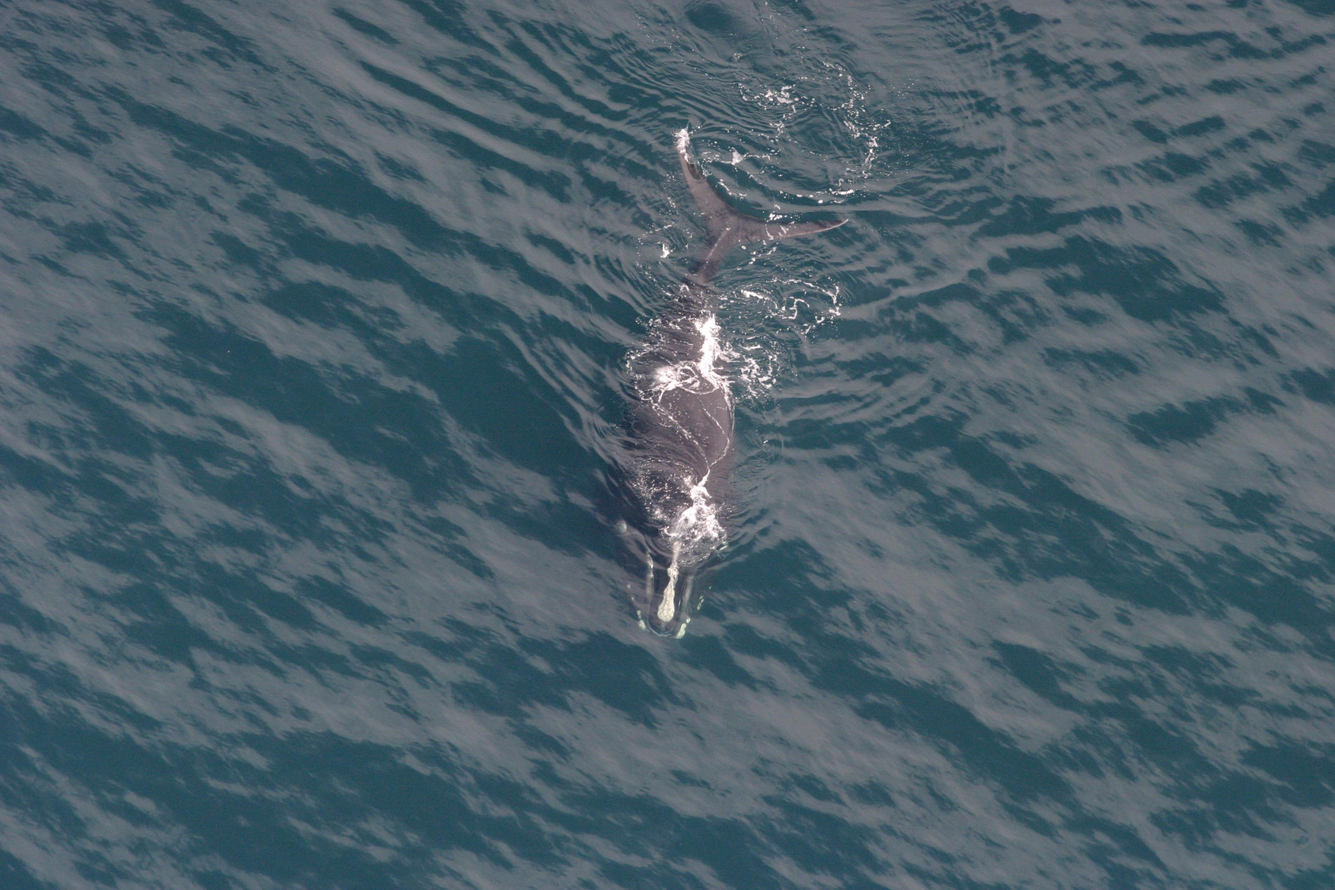whale: (588, 125, 860, 645)
